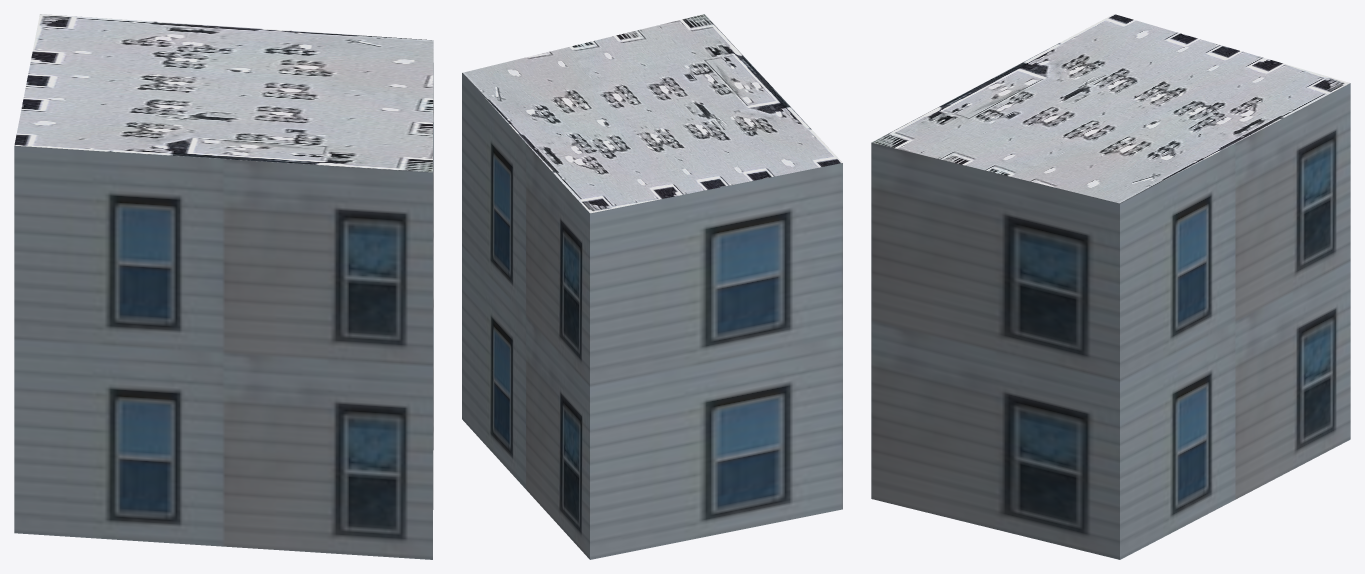
The model's file is ResTex__182.fbx.
3 renders of one model, left to right at view 1: azimuth 30°, elevation 25°; view 2: azimuth 150°, elevation 25°; view 3: azimuth 270°, elevation 25°, orthographic. The views are drawn at different scales.
Visible parts, largest first — view 1: CityEngineMaterial_18_m, CityEngineMaterial_4_m; view 2: CityEngineMaterial_18_m, CityEngineMaterial_4_m; view 3: CityEngineMaterial_18_m, CityEngineMaterial_4_m.
Part boxes in pixels (left/top/right/bottom): CityEngineMaterial_18_m: left=14, top=63, right=433, bottom=559; CityEngineMaterial_4_m: left=14, top=14, right=433, bottom=172; CityEngineMaterial_18_m: left=462, top=73, right=842, bottom=559; CityEngineMaterial_4_m: left=462, top=14, right=842, bottom=213; CityEngineMaterial_18_m: left=871, top=83, right=1350, bottom=559; CityEngineMaterial_4_m: left=871, top=14, right=1350, bottom=203.
Size of the model in its own units: 6.85 by 6 by 7.31.
Materials: 2 (2 with a texture image).
